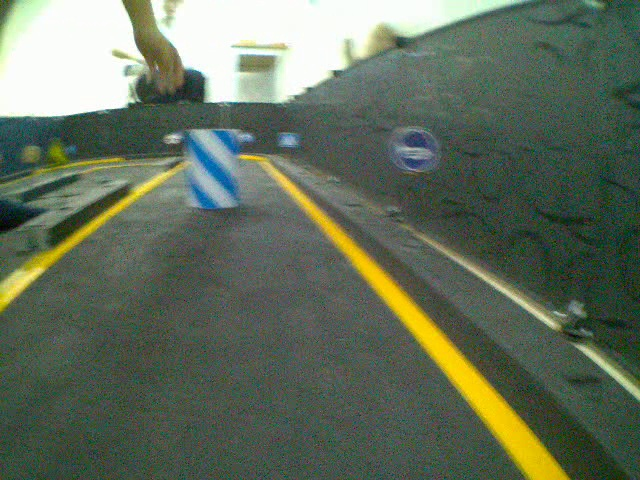bucket: (185, 127, 241, 212)
